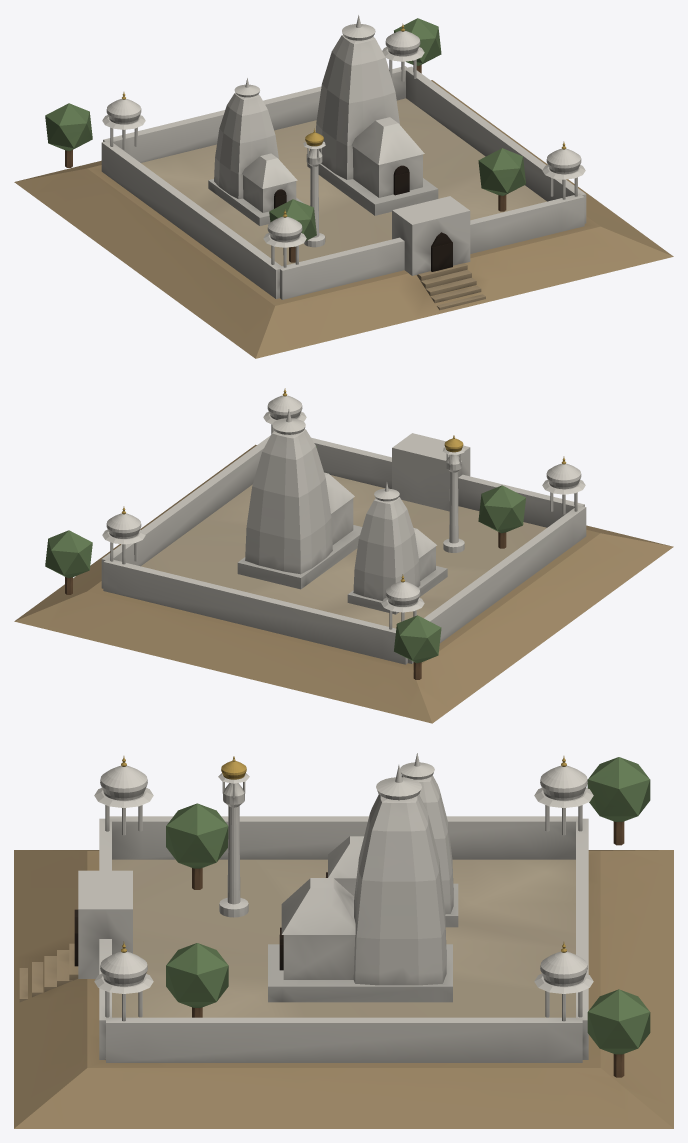
File: kamaldah.glb
3 renders of one model, top to bottom at view 1: azimuth 30°, elevation 25°; view 2: azimuth 150°, elevation 25°; view 3: azimuth 270°, elevation 25°, orthographic. The views are drawn at different scales.
Parts seen in each view (by area): view 1: p0_mound and wall, p1_shrines, p2_trees; view 2: p0_mound and wall, p1_shrines, p2_trees; view 3: p0_mound and wall, p1_shrines, p2_trees.
Boxes of the visible parts, left/top/right/bottom form: p0_mound and wall: left=14, top=66, right=673, bottom=358; p1_shrines: left=208, top=15, right=438, bottom=225; p2_trees: left=45, top=18, right=585, bottom=267; p0_mound and wall: left=14, top=433, right=673, bottom=723; p1_shrines: left=237, top=409, right=447, bottom=614; p2_trees: left=45, top=388, right=585, bottom=679; p0_mound and wall: left=14, top=816, right=673, bottom=1128; p1_shrines: left=268, top=753, right=458, bottom=1002; p2_trees: left=94, top=756, right=650, bottom=1077.
Size of the model in its own units: 36 by 14.98 by 36.
